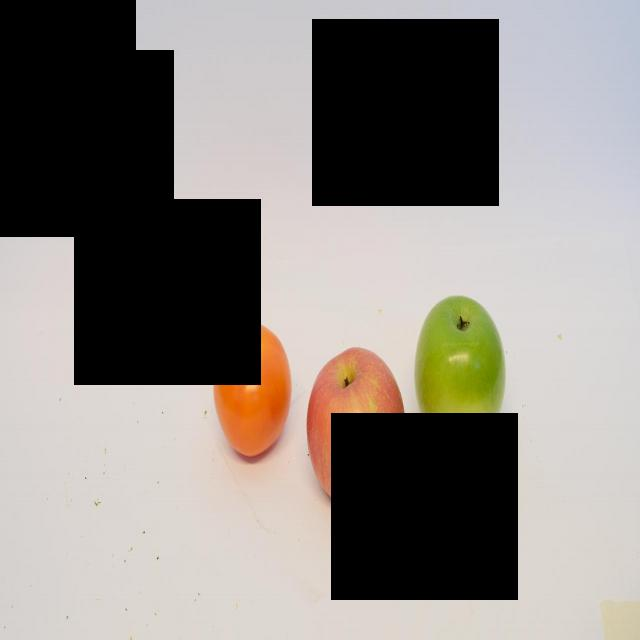apple: (307, 346, 406, 508), (413, 293, 506, 450)
tomato: (213, 321, 293, 458)
